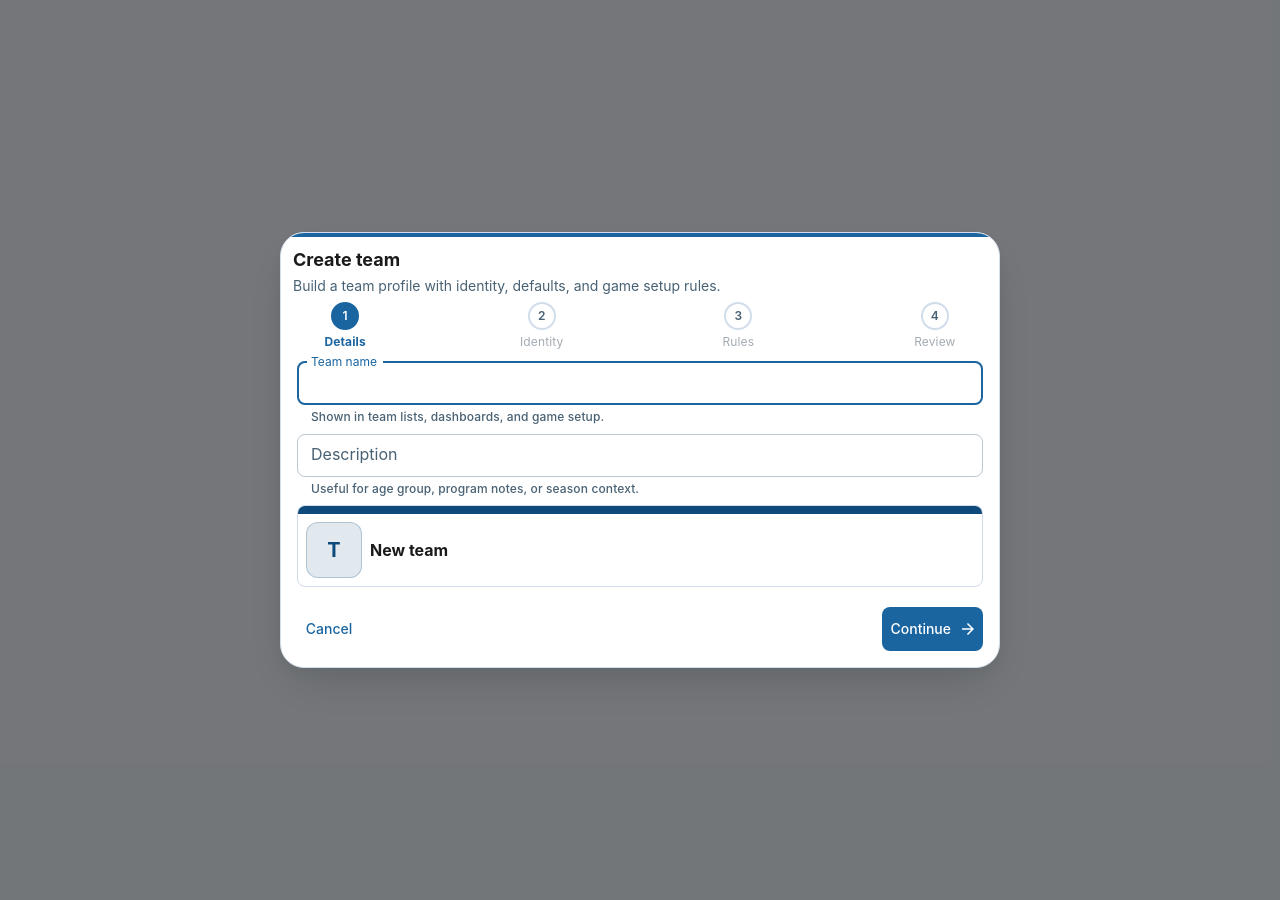
Test: CreateTeamWorkflow › allows navigating back across steps
Type "Eagles" into the field labelled "Team name". click: (640, 383)
box: [297,362,983,405]
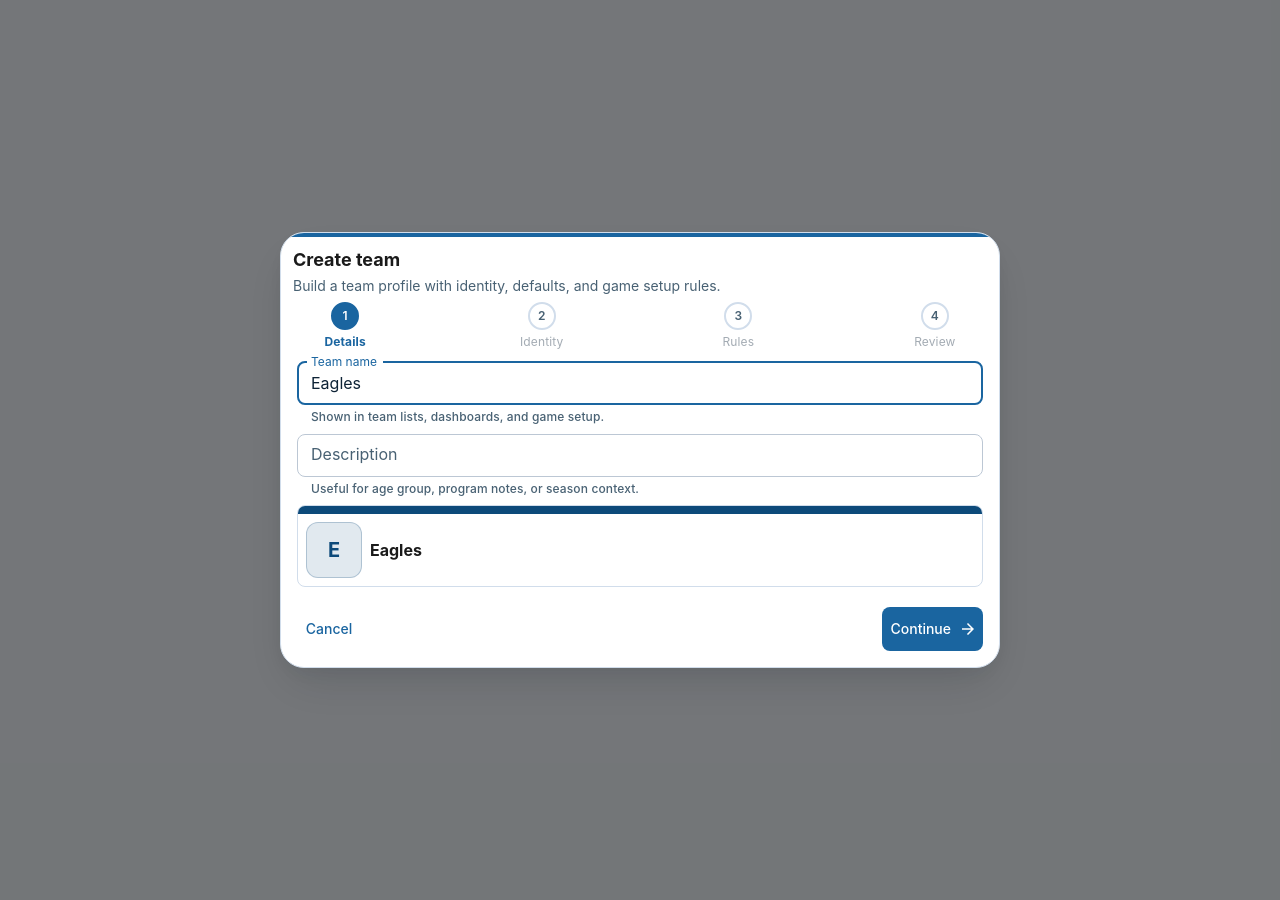
Click the button "Continue". click: (933, 629)
box: [882,607,983,651]
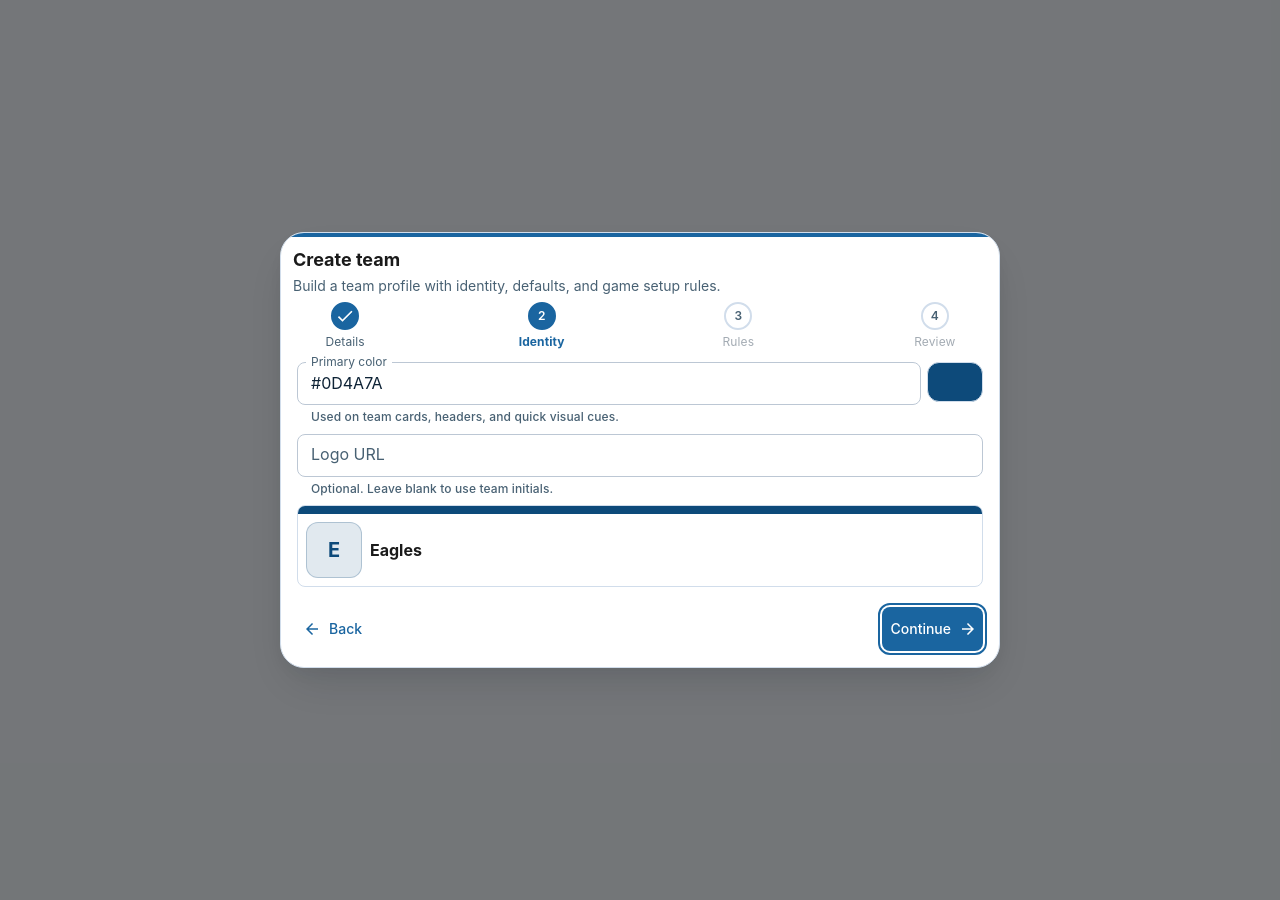
Now the field labelled "Primary color" is shown, box [297,362,921,405]
Click the button "Back". click: (334, 629)
box: [297,607,370,651]
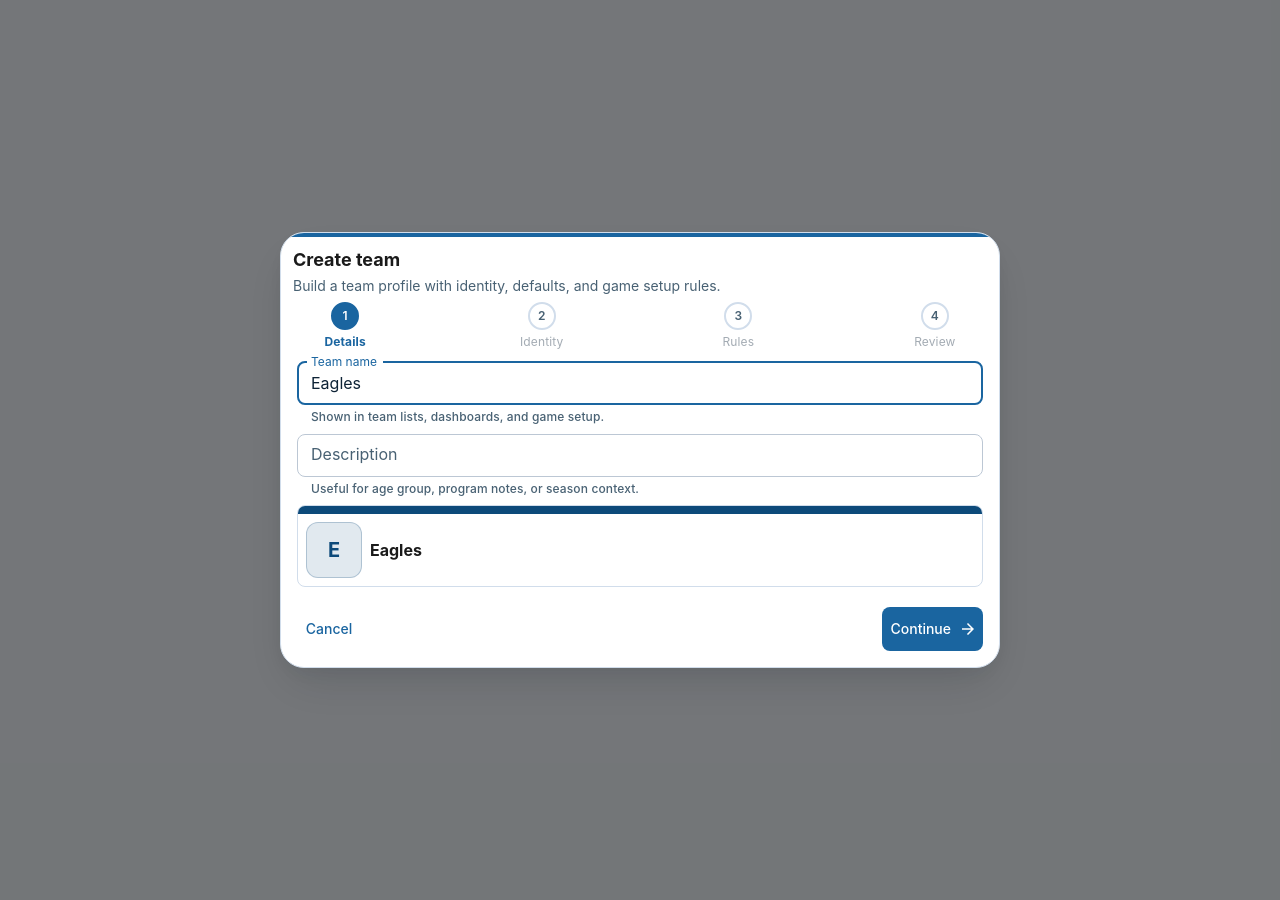
Now the field labelled "Team name" is shown, box [297,362,983,405]
